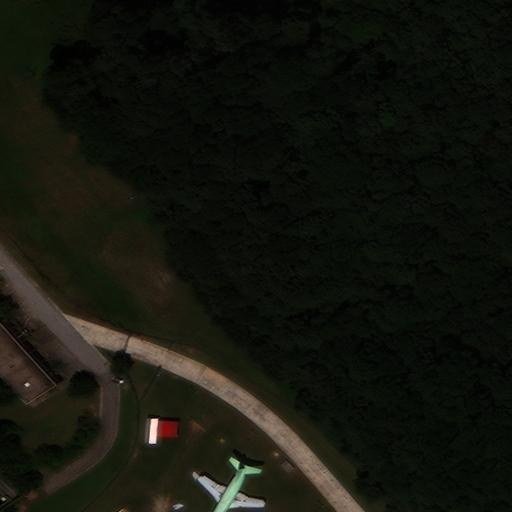Medium Civil Transport: (196, 462, 264, 512)
